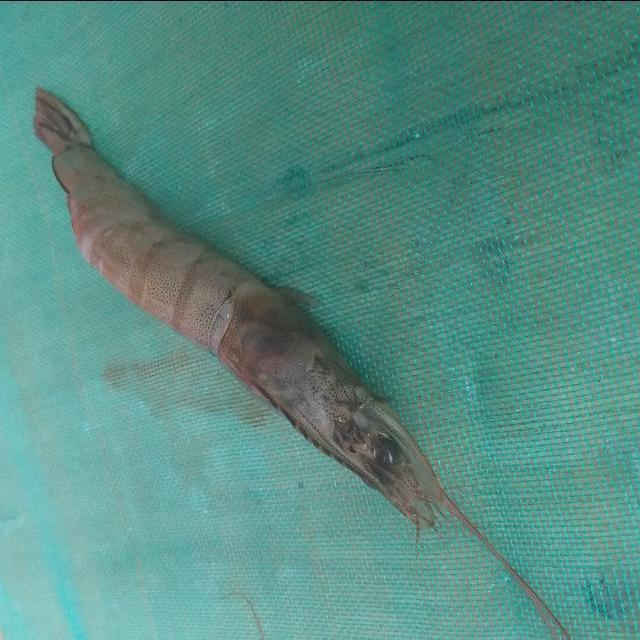shrimp: (35, 88, 444, 527)
